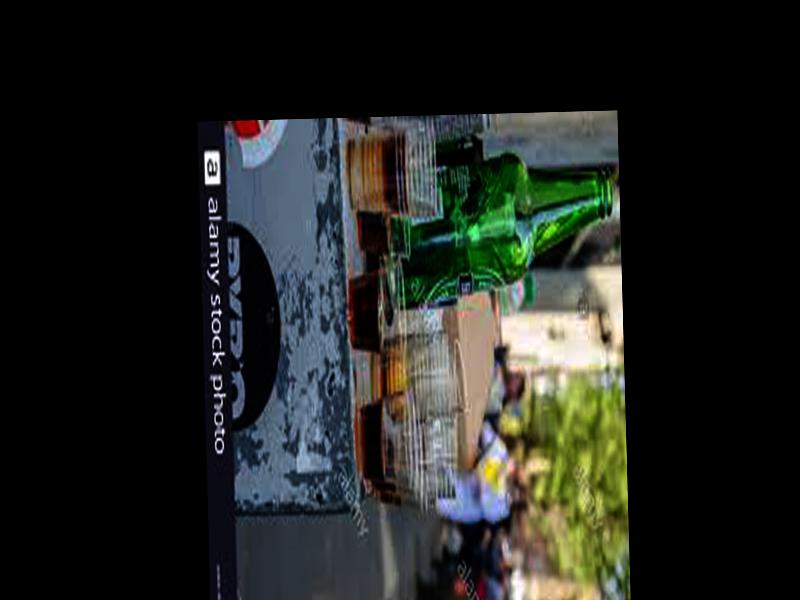Beer: (370, 148, 614, 313)
